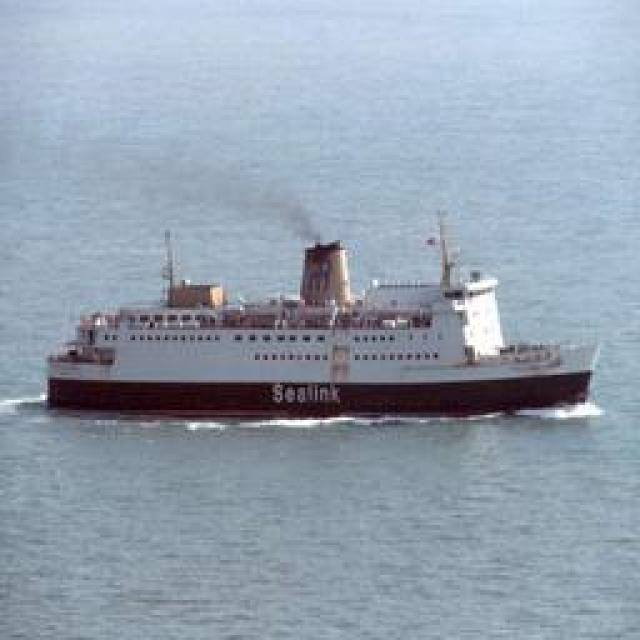CIV_Ship: (52, 214, 610, 418)
